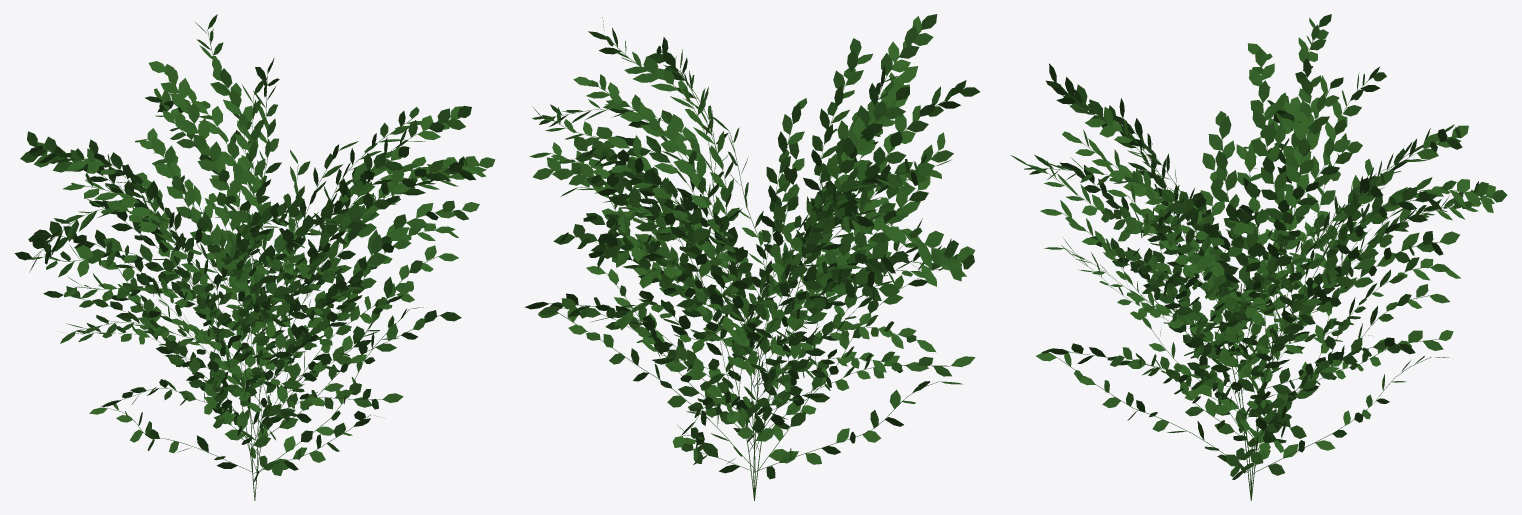
The model's file is NeutralBush.fbx.
3 views of the same model, side by side, from view 1: azimuth 30°, elevation 25°; view 2: azimuth 150°, elevation 25°; view 3: azimuth 270°, elevation 25° (orthographic). The views are drawn at different scales.
Visible parts, largest first — view 1: NeutralBush; view 2: NeutralBush; view 3: NeutralBush.
Part boxes in pixels (left/top/right/bottom): NeutralBush: left=14, top=14, right=495, bottom=500; NeutralBush: left=524, top=14, right=980, bottom=500; NeutralBush: left=1010, top=14, right=1507, bottom=500.
Size of the model in its own units: 353 by 300 by 335.
